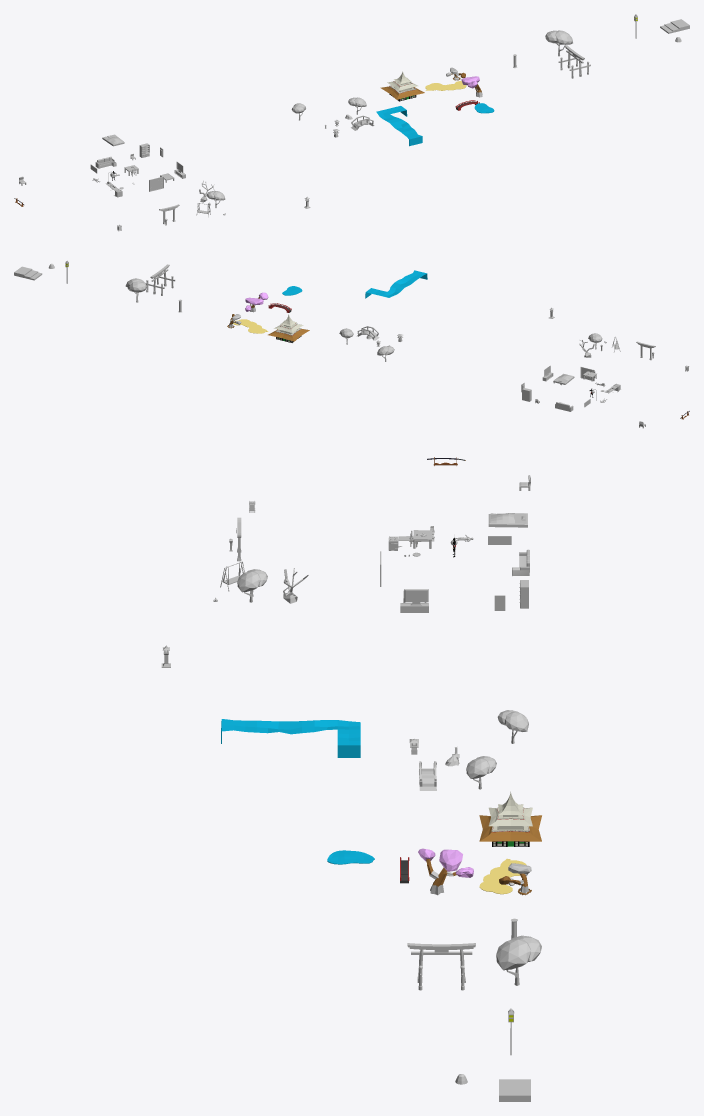
The model's file is Item Set 1.fbx.
The picture shows the model from 3 angles, top to bottom: view 1: azimuth 30°, elevation 25°; view 2: azimuth 150°, elevation 25°; view 3: azimuth 270°, elevation 25°; orthographic projection. The views are drawn at different scales.
Visible parts, largest first — view 1: River.001, Temple 1, Shrine_Gate_4, Blossm Tree.002; view 2: River.001, Temple 1, Shrine_Gate_4; view 3: River.001, Temple 1, Blossm Tree.002, Tree 4, Shrine_Gate_4.
Boxes of the visible parts, x1=… form: River.001: x1=376, y1=106, x2=422, y2=146; Temple 1: x1=380, y1=71, x2=424, y2=101; Shrine_Gate_4: x1=558, y1=45, x2=590, y2=78; Blossm Tree.002: x1=545, y1=30, x2=572, y2=56; River.001: x1=365, y1=270, x2=427, y2=298; Temple 1: x1=268, y1=314, x2=309, y2=342; Shrine_Gate_4: x1=145, y1=264, x2=175, y2=295; River.001: x1=221, y1=719, x2=360, y2=757; Temple 1: x1=479, y1=791, x2=541, y2=846; Blossm Tree.002: x1=496, y1=935, x2=541, y2=985; Tree 4: x1=418, y1=848, x2=473, y2=895; Shrine_Gate_4: x1=407, y1=943, x2=475, y2=990.
Size of the model in its own units: 460 by 20.27 by 116.
